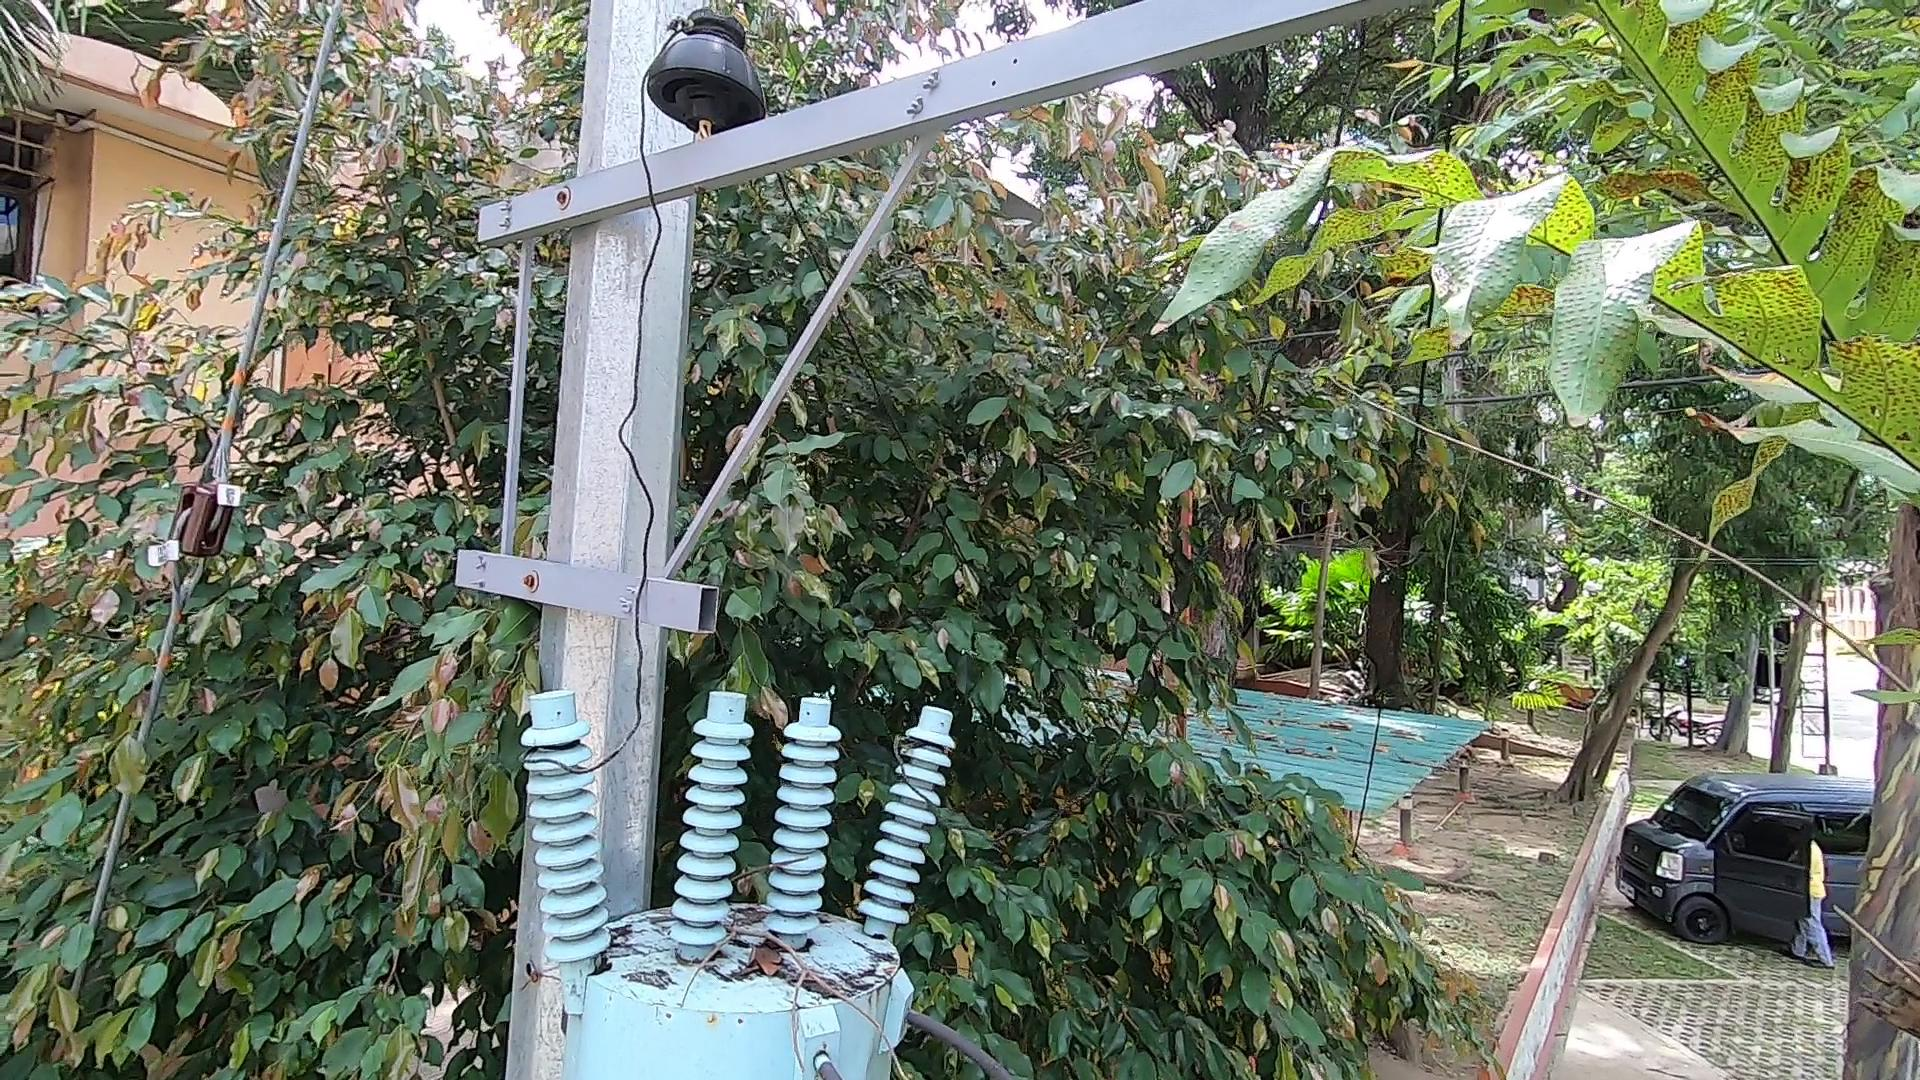leaf: (731, 923, 794, 984)
tree branch: (684, 907, 915, 1080)
